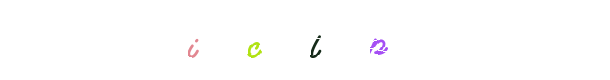C: (265, 0, 345, 80)
I: (214, 0, 294, 80)
L: (275, 0, 355, 80)
P: (276, 0, 356, 80)
